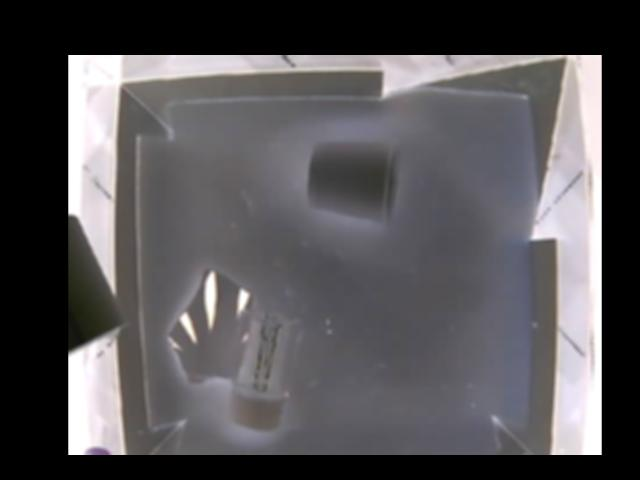Bottle: (225, 309, 295, 431)
China: (162, 264, 258, 387)
Cup: (305, 140, 403, 223)
